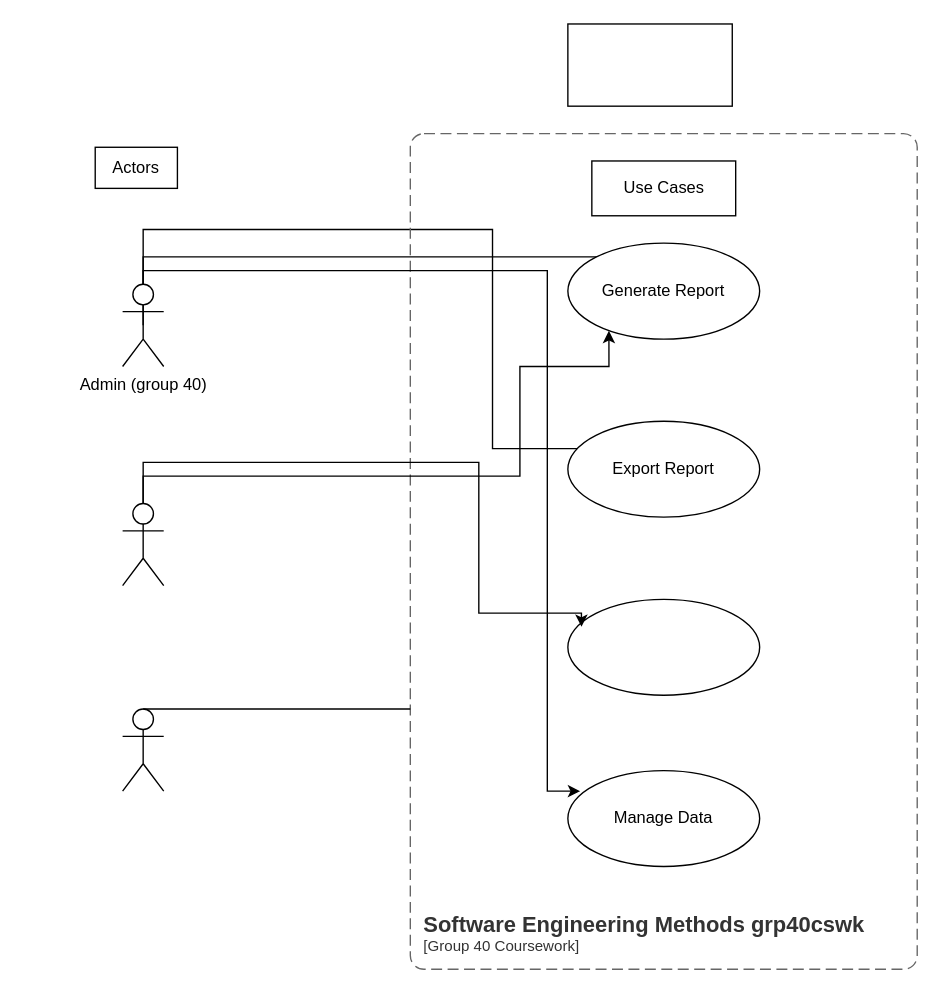
This 941x993 diagram has some shape labels left out. Here are the shapes that lost their labels. From the top down, the centre of each, then its label:
point (649, 64): System (boundary)
point (142, 544): End User
point (663, 646): View Report
point (142, 749): External Data Source (database)
